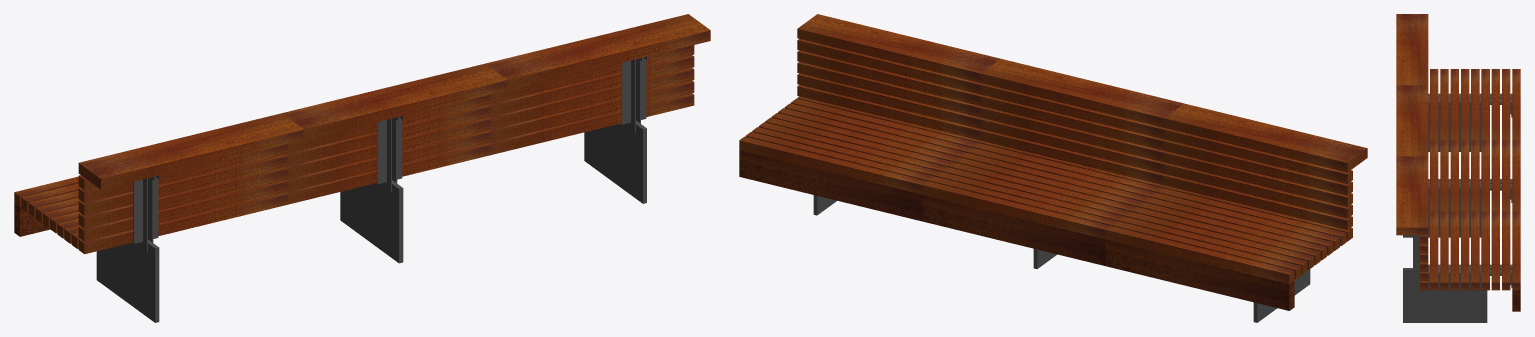
3 renders of one model, left to right at view 1: azimuth 30°, elevation 25°; view 2: azimuth 150°, elevation 25°; view 3: azimuth 270°, elevation 25°, orthographic. The views are drawn at different scales.
Visible parts, largest first — view 1: mesh9_mesh9-geometry, mesh23_mesh23-geometry, mesh13_mesh13-geometry, mesh15_mesh15-geometry, mesh17_mesh17-geometry, mesh11_mesh11-geometry, mesh61_mesh61-geometry, mesh65_mesh65-geometry, mesh63_mesh63-geometry, mesh31_mesh31-geometry, mesh68_mesh68-geometry, mesh33_mesh33-geometry (+2 smaller); view 2: mesh31_mesh31-geometry, mesh9_mesh9-geometry, mesh11_mesh11-geometry, mesh13_mesh13-geometry, mesh15_mesh15-geometry, mesh23_mesh23-geometry, mesh21_mesh21-geometry, mesh29_mesh29-geometry, mesh5_mesh5-geometry, mesh1_mesh1-geometry, mesh27_mesh27-geometry, mesh7_mesh7-geometry (+5 smaller); view 3: mesh9_mesh9-geometry, mesh63_mesh63-geometry, mesh31_mesh31-geometry, mesh5_mesh5-geometry, mesh7_mesh7-geometry, mesh25_mesh25-geometry, mesh1_mesh1-geometry, mesh3_mesh3-geometry, mesh19_mesh19-geometry, mesh27_mesh27-geometry, mesh29_mesh29-geometry, mesh65_mesh65-geometry (+5 smaller).
Part boxes in pixels (x1=…): mesh9_mesh9-geometry: x1=78, y1=14, x2=710, y2=189; mesh23_mesh23-geometry: x1=78, y1=55, x2=694, y2=215; mesh13_mesh13-geometry: x1=78, y1=68, x2=694, y2=228; mesh15_mesh15-geometry: x1=78, y1=80, x2=694, y2=241; mesh17_mesh17-geometry: x1=78, y1=93, x2=694, y2=254; mesh11_mesh11-geometry: x1=78, y1=45, x2=694, y2=203; mesh61_mesh61-geometry: x1=96, y1=239, x2=159, y2=322; mesh65_mesh65-geometry: x1=340, y1=180, x2=403, y2=263; mesh63_mesh63-geometry: x1=584, y1=120, x2=646, y2=203; mesh31_mesh31-geometry: x1=14, y1=176, x2=78, y2=236; mesh68_mesh68-geometry: x1=620, y1=60, x2=630, y2=124; mesh33_mesh33-geometry: x1=376, y1=120, x2=386, y2=184; mesh31_mesh31-geometry: x1=739, y1=136, x2=1294, y2=310; mesh9_mesh9-geometry: x1=797, y1=14, x2=1367, y2=172; mesh11_mesh11-geometry: x1=797, y1=50, x2=1352, y2=195; mesh13_mesh13-geometry: x1=797, y1=73, x2=1352, y2=218; mesh15_mesh15-geometry: x1=797, y1=85, x2=1352, y2=229; mesh23_mesh23-geometry: x1=797, y1=62, x2=1352, y2=206; mesh21_mesh21-geometry: x1=797, y1=39, x2=1352, y2=183; mesh29_mesh29-geometry: x1=745, y1=132, x2=1301, y2=279; mesh5_mesh5-geometry: x1=758, y1=122, x2=1314, y2=269; mesh1_mesh1-geometry: x1=778, y1=108, x2=1333, y2=255; mesh27_mesh27-geometry: x1=752, y1=127, x2=1307, y2=274; mesh7_mesh7-geometry: x1=765, y1=117, x2=1320, y2=265; mesh9_mesh9-geometry: x1=1396, y1=14, x2=1428, y2=235; mesh63_mesh63-geometry: x1=1403, y1=268, x2=1487, y2=322; mesh31_mesh31-geometry: x1=1512, y1=69, x2=1520, y2=311; mesh5_mesh5-geometry: x1=1481, y1=69, x2=1489, y2=290; mesh7_mesh7-geometry: x1=1471, y1=69, x2=1479, y2=290; mesh25_mesh25-geometry: x1=1440, y1=69, x2=1448, y2=290; mesh1_mesh1-geometry: x1=1450, y1=69, x2=1458, y2=290; mesh3_mesh3-geometry: x1=1461, y1=69, x2=1469, y2=290; mesh19_mesh19-geometry: x1=1430, y1=69, x2=1438, y2=290; mesh27_mesh27-geometry: x1=1491, y1=69, x2=1499, y2=290; mesh29_mesh29-geometry: x1=1502, y1=69, x2=1510, y2=290; mesh65_mesh65-geometry: x1=1403, y1=182, x2=1481, y2=237.
Bounding box in the file's own units: 0.9429 × 0.2389 × 0.2322.
